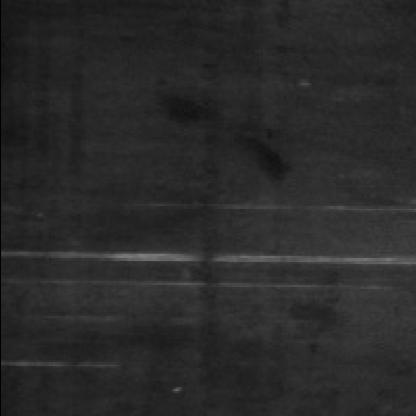scratches: (10, 237, 416, 271)
